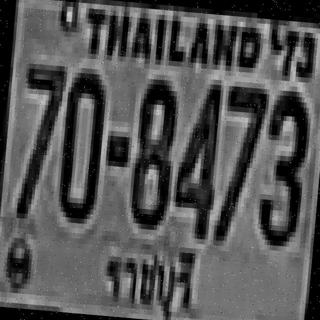N00: (54, 67, 106, 219)
N03: (254, 84, 311, 242)
N04: (170, 77, 222, 234)
N07: (213, 83, 267, 241), (14, 58, 65, 216)
N08: (127, 73, 178, 226)
P52: (95, 235, 199, 320)
